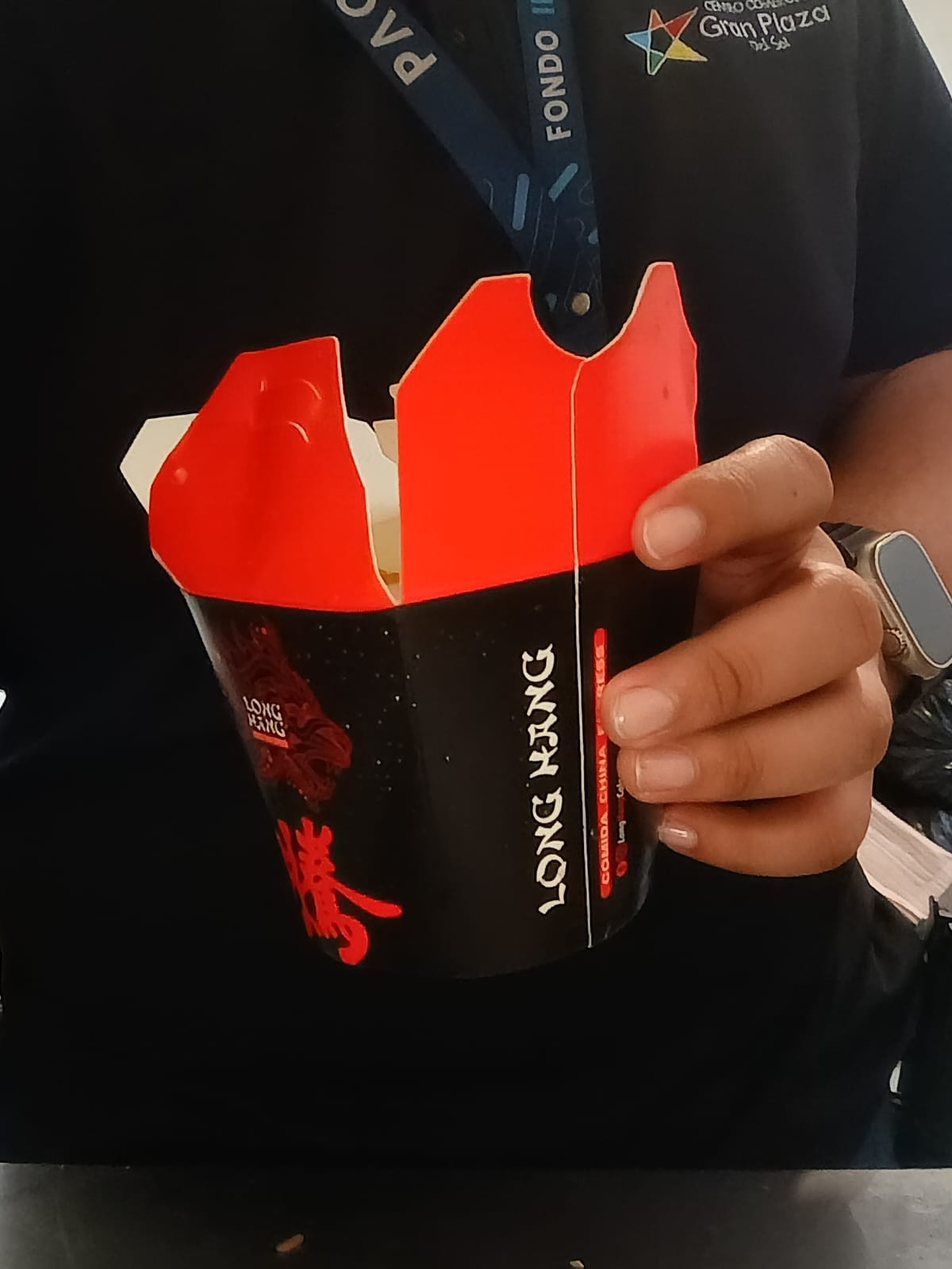Carton: (117, 258, 698, 979)
